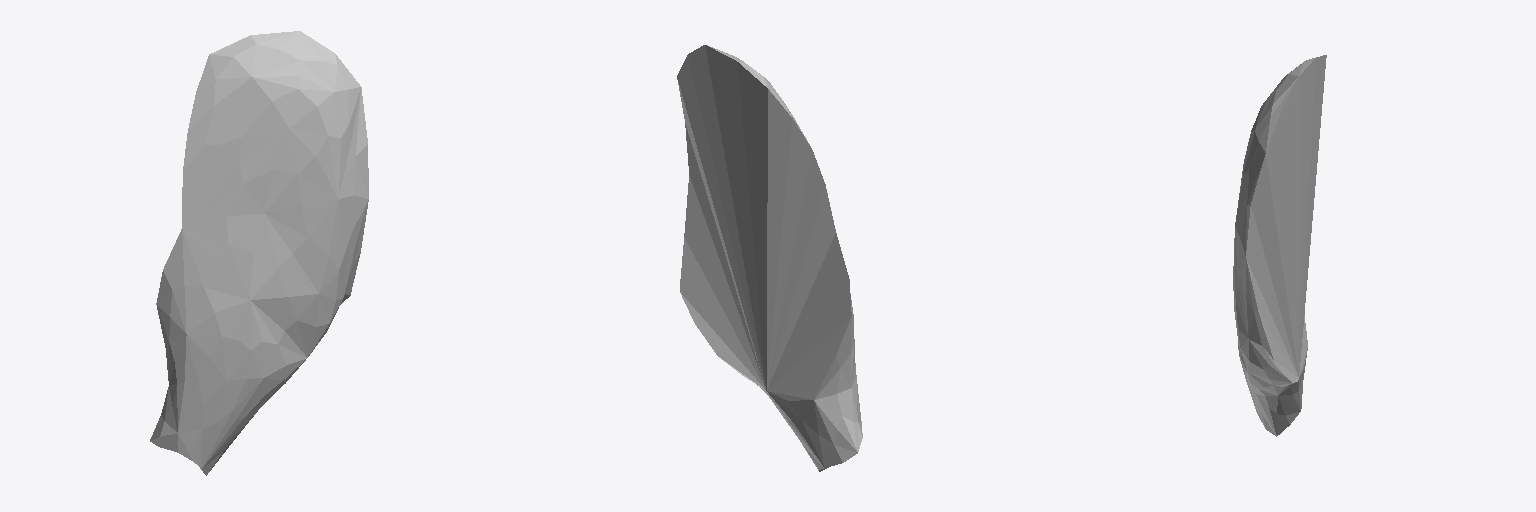
Rendered from Patte_ar_R.obj.
3 views of the same model, side by side, from view 1: azimuth 30°, elevation 25°; view 2: azimuth 150°, elevation 25°; view 3: azimuth 270°, elevation 25° (orthographic).
Visible parts, largest first — view 1: Patte_arrière__R; view 2: Patte_arrière__R; view 3: Patte_arrière__R.
Part boxes in pixels (left/top/right/bottom): Patte_arrière__R: left=150, top=31, right=368, bottom=475; Patte_arrière__R: left=677, top=45, right=862, bottom=471; Patte_arrière__R: left=1233, top=55, right=1326, bottom=436.
Size of the model in its own units: 1.57 by 3.13 by 0.6457.